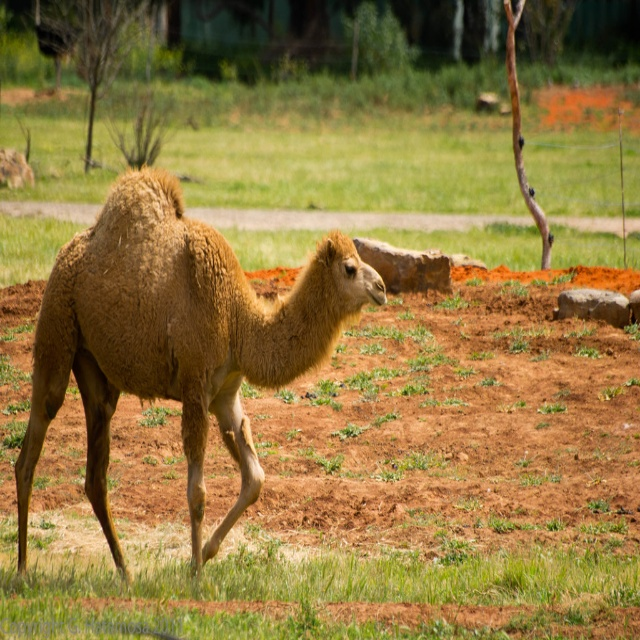Camel: (14, 160, 388, 592)
